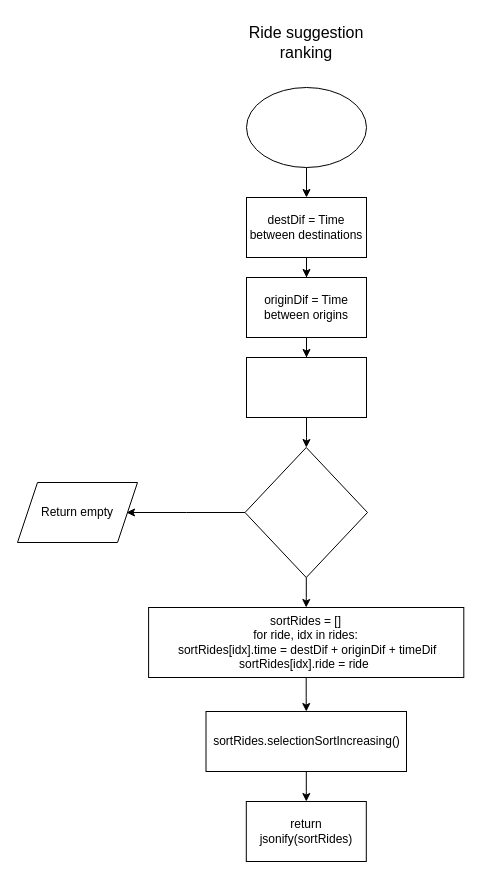
This 482x879 diagram has some shape labels left out. The box of each missing label's shape, as (x1, y1, x2, y2) in pixels:
if (destDif > 10min) or (originDiff >15 min) or (timeDiff > 30): (244, 446, 368, 578)
Start: (246, 86, 366, 168)
timeDif = Time arrival difference: (246, 356, 366, 418)
